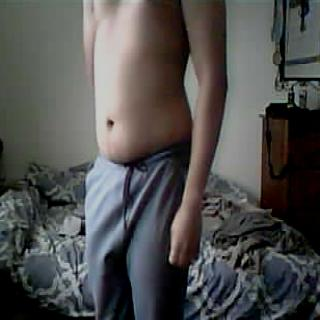Blue Sweatpants: (78, 142, 189, 320)
